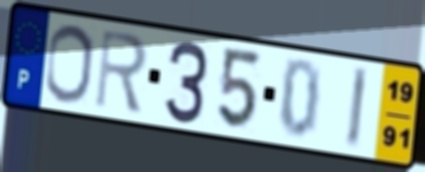0: (278, 58, 324, 142)
3: (161, 37, 212, 126)
5: (217, 44, 265, 134)
I: (344, 64, 371, 152)
O: (43, 22, 95, 106)
R: (92, 26, 150, 116)
